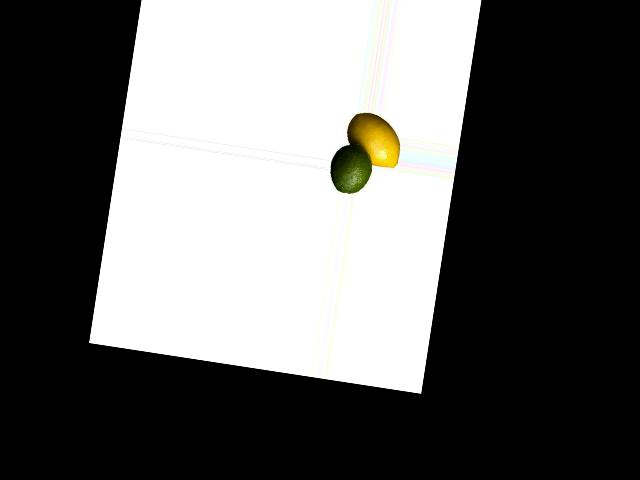lemon: (324, 132, 384, 198)
